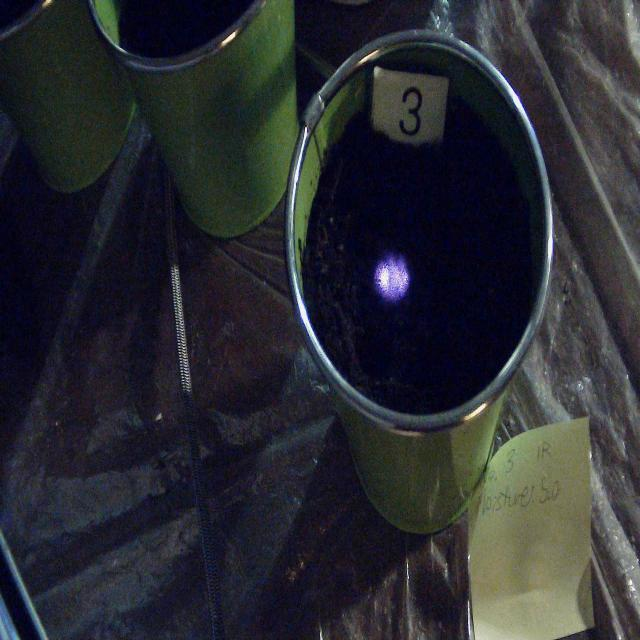soil-moisture-5.0: (374, 255, 408, 301)
